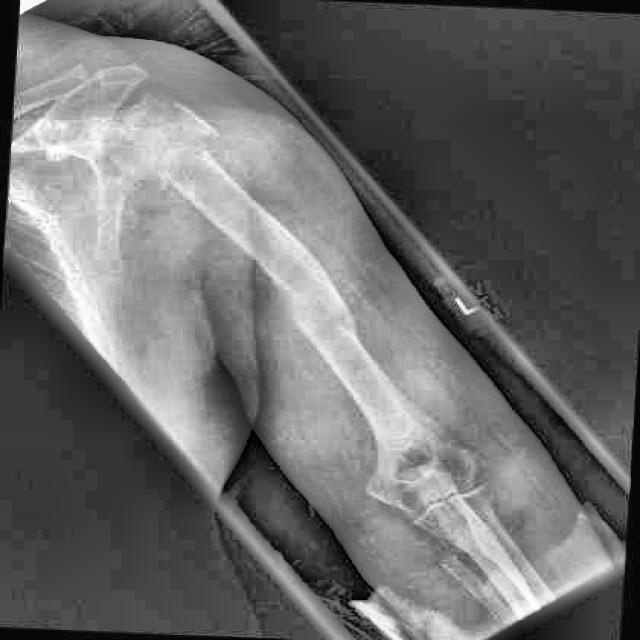humerus: (242, 237, 389, 395), (139, 102, 277, 251)
